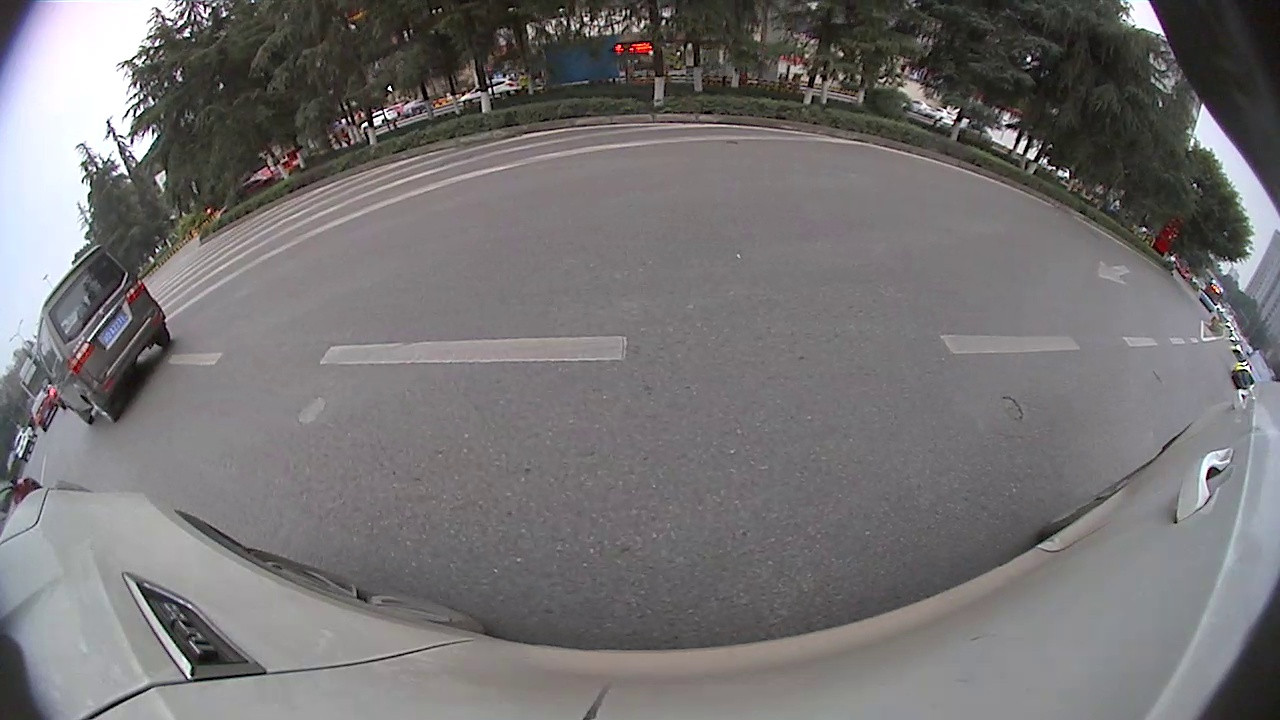car: (32, 240, 173, 430)
rear: (85, 395, 118, 423)
